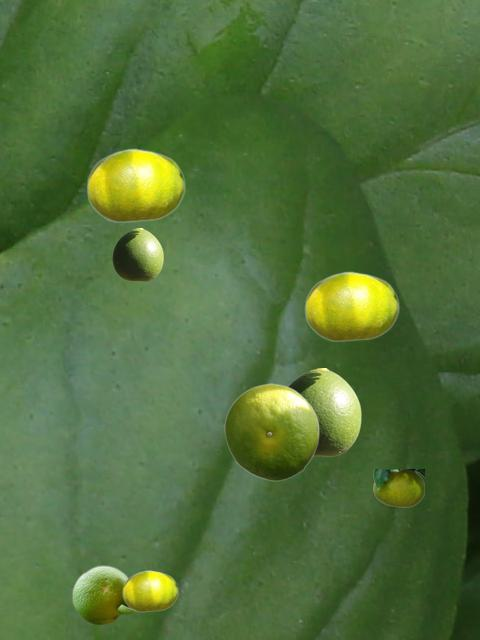dalandan: (224, 383, 318, 480), (86, 148, 184, 222), (304, 271, 398, 341), (288, 368, 360, 455), (71, 564, 136, 624), (112, 228, 162, 280), (122, 570, 177, 611), (373, 469, 423, 506)
